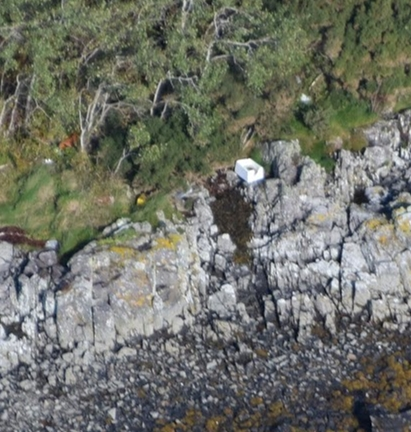white_in_green: (210, 138, 287, 197), (275, 69, 347, 127), (113, 171, 165, 224)
